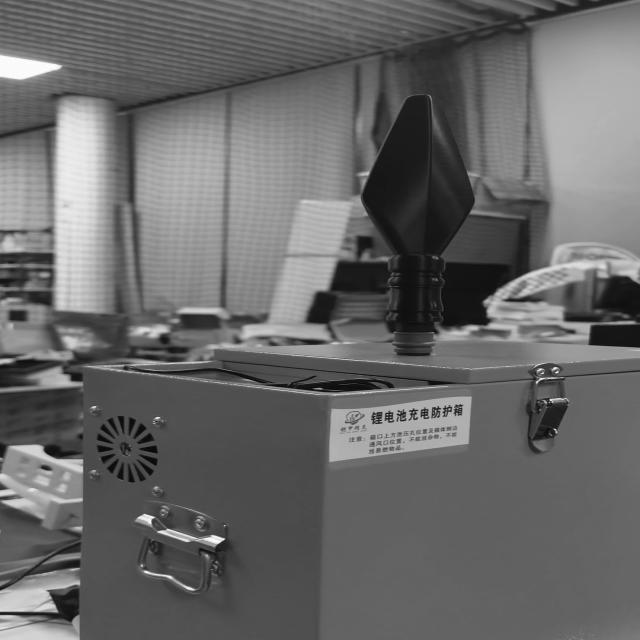base: (391, 330, 436, 355)
